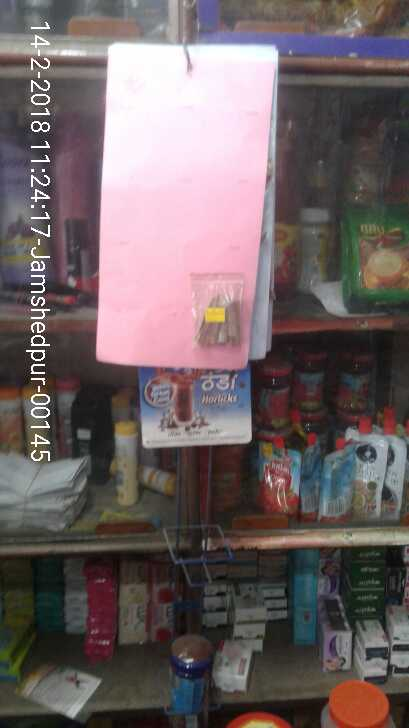reject: (148, 209, 234, 326)
